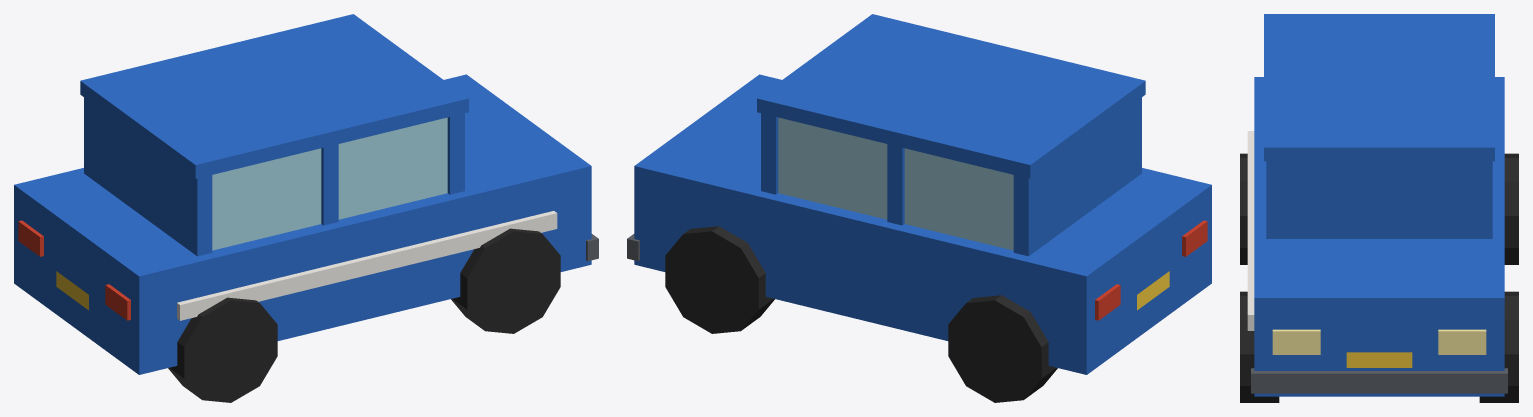
The model's file is car_blue.glb.
3 renders of one model, left to right at view 1: azimuth 30°, elevation 25°; view 2: azimuth 150°, elevation 25°; view 3: azimuth 270°, elevation 25°, orthographic.
Parts seen in each view (by area): view 1: car_blue; view 2: car_blue; view 3: car_blue.
Part boxes in pixels (bbox=[...]): car_blue: bbox=[14, 14, 598, 402]; car_blue: bbox=[627, 14, 1211, 402]; car_blue: bbox=[1240, 14, 1518, 402].
Bounding box in the file's own units: 2.45 × 1.19 × 1.28.
Materials: 1 (1 with a texture image).
